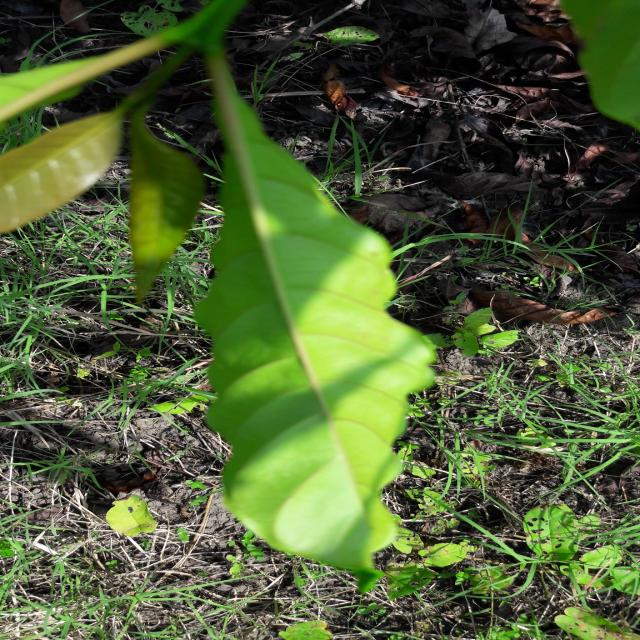Sanas: (193, 21, 438, 595)
